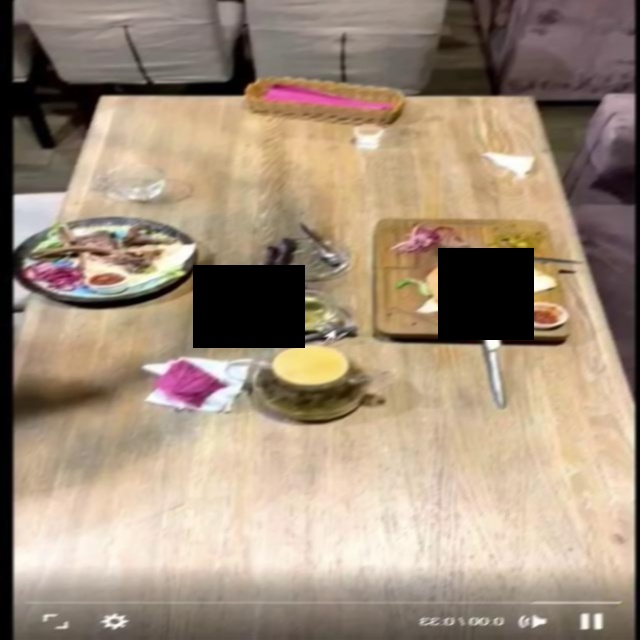meat: (0, 200, 221, 317), (369, 219, 568, 341)
tea: (255, 345, 370, 420)
